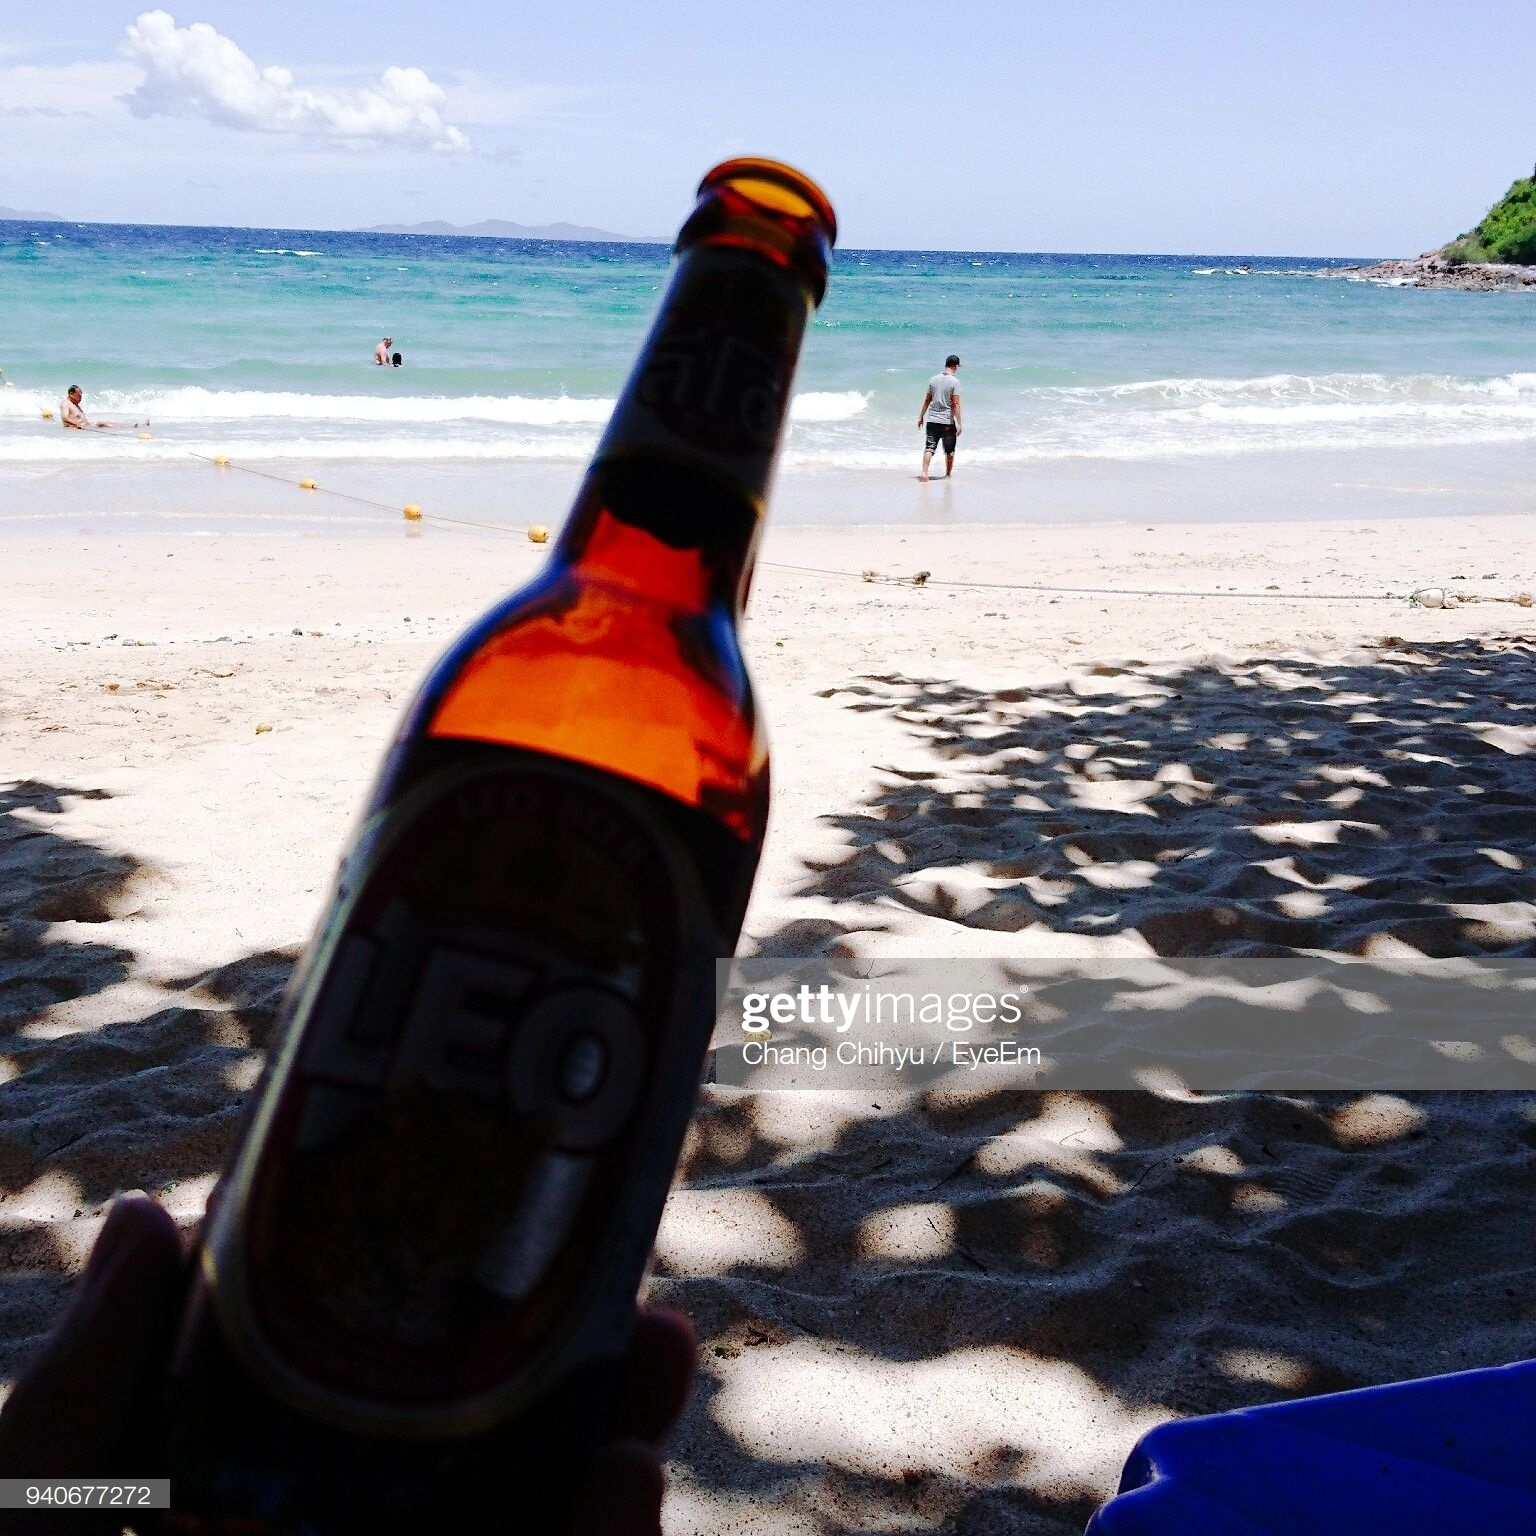beerBottle: (148, 160, 840, 1536)
